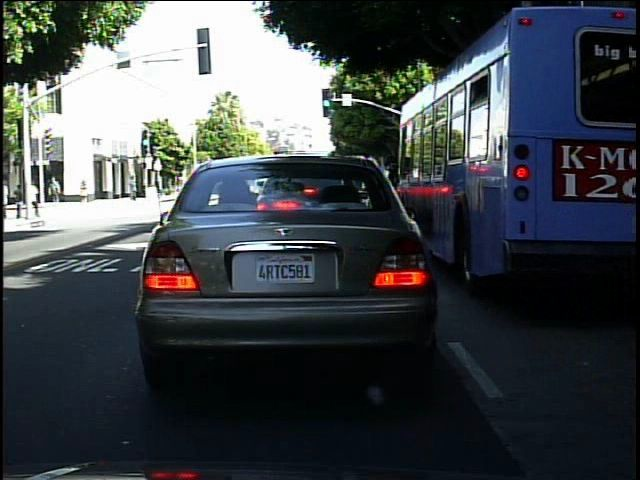person: (76, 171, 94, 208), (48, 173, 67, 207), (125, 170, 143, 204), (30, 175, 43, 219), (13, 179, 24, 221)
